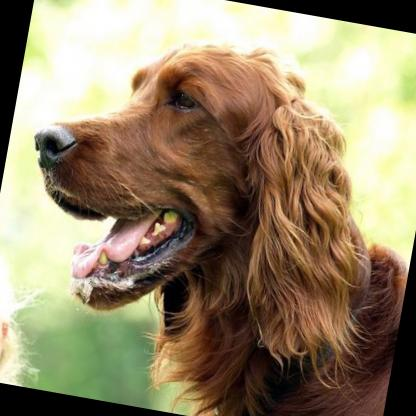Gordon_setter: (0, 6, 416, 416)
